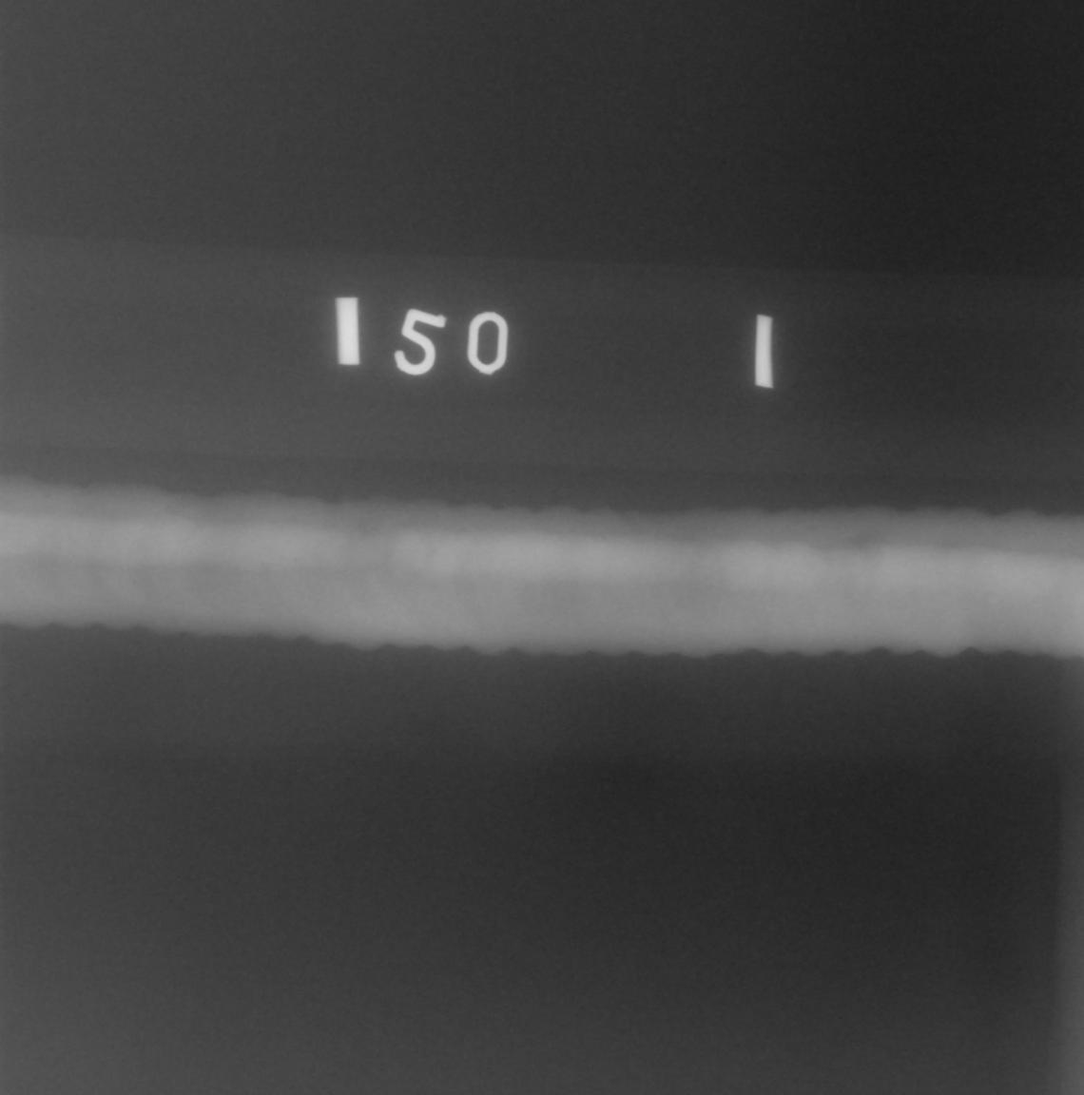Inclusion: (66, 535, 77, 544)
